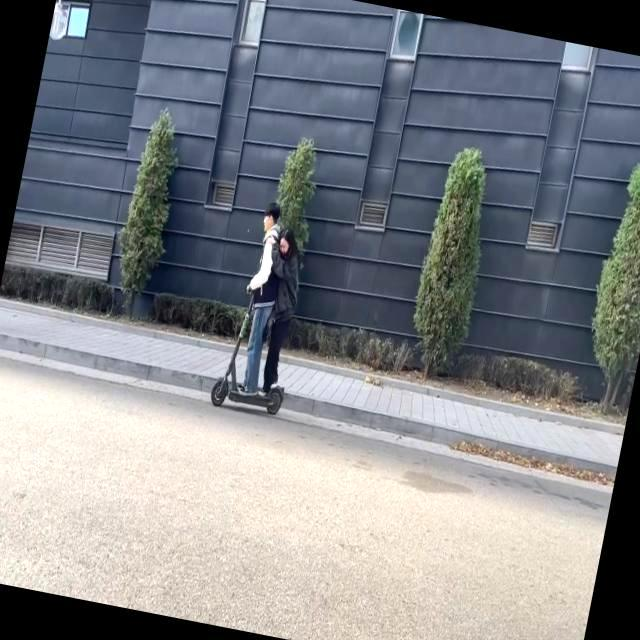bare_head: (254, 198, 278, 234), (275, 230, 300, 260)
human: (235, 202, 282, 394), (254, 229, 302, 391)
kickboard: (205, 370, 285, 422)
